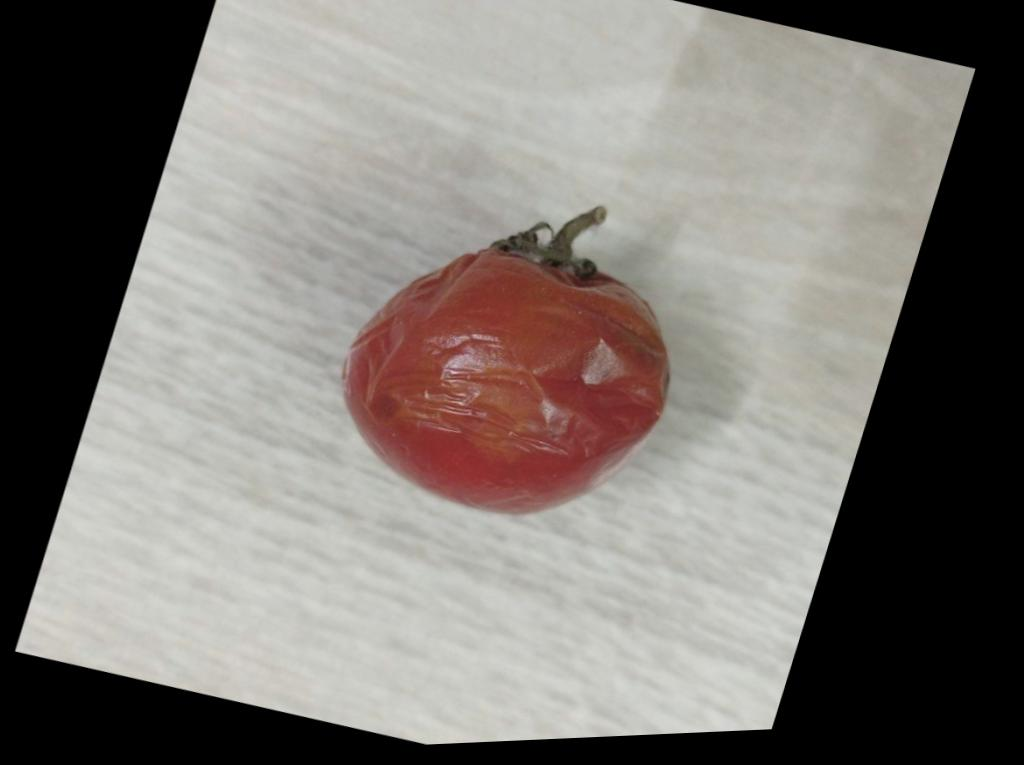bruise_discoloration: (388, 356, 571, 458)
tomato: (344, 208, 668, 514)
